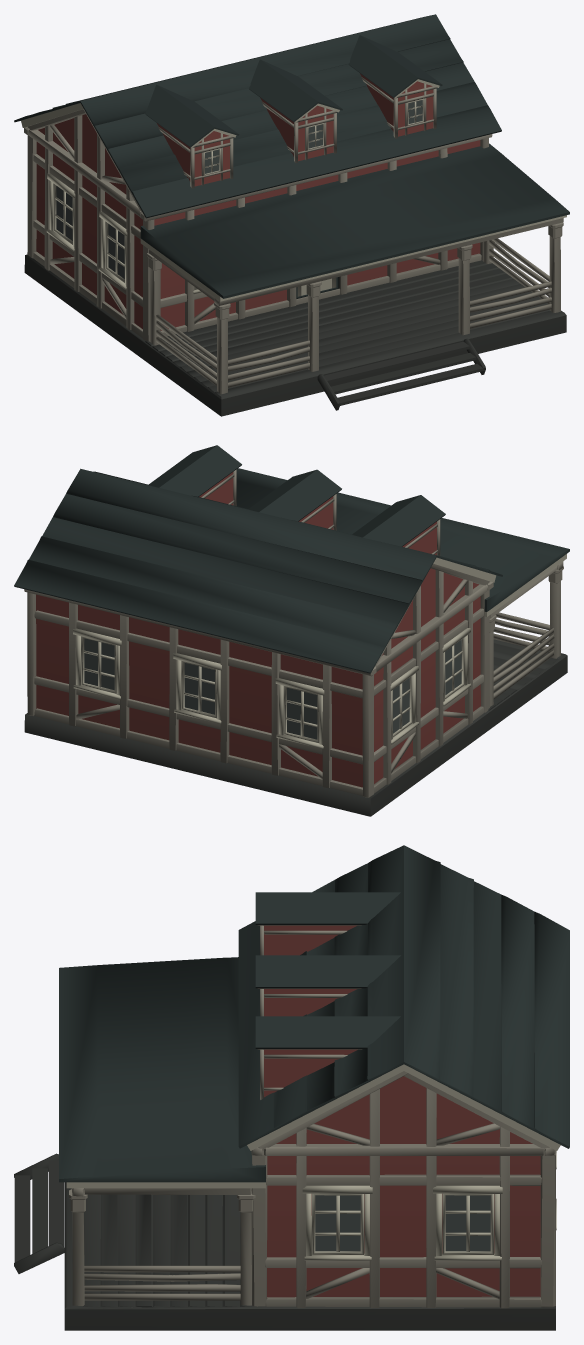
The model's file is farm_house_6.glb.
3 renders of one model, top to bottom at view 1: azimuth 30°, elevation 25°; view 2: azimuth 150°, elevation 25°; view 3: azimuth 270°, elevation 25°, orthographic. The views are drawn at different scales.
Parts seen in each view (by area): view 1: farm_house_6; view 2: farm_house_6; view 3: farm_house_6.
Boxes of the visible parts, bbox=[...] form: farm_house_6: bbox=[14, 14, 569, 416]; farm_house_6: bbox=[14, 445, 569, 816]; farm_house_6: bbox=[14, 845, 569, 1330].
Size of the model in its own units: 10.64 by 6.34 by 11.53.
Materials: 1 (1 with a texture image).
